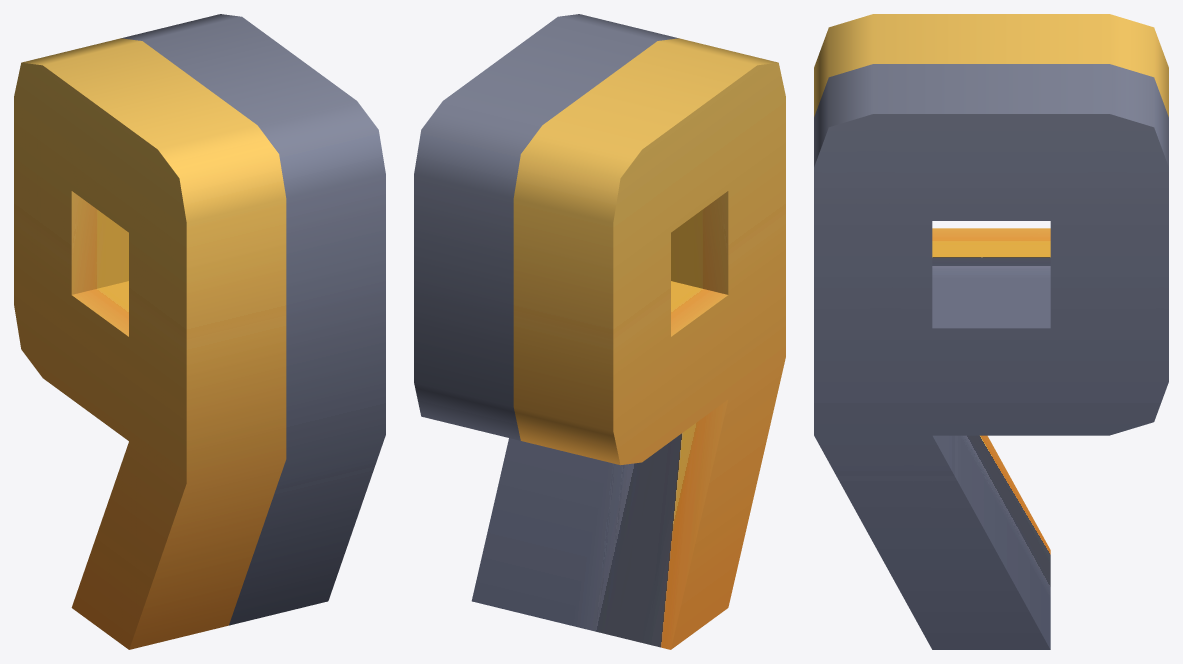
File: number-double-9.glb
3 views of the same model, side by side, from view 1: azimuth 30°, elevation 25°; view 2: azimuth 150°, elevation 25°; view 3: azimuth 270°, elevation 25° (orthographic). The views are drawn at different scales.
Visible parts, largest first — view 1: number-double-9; view 2: number-double-9; view 3: number-double-9.
Boxes of the visible parts, x1=… form: number-double-9: x1=14, y1=14, x2=385, y2=649; number-double-9: x1=414, y1=14, x2=785, y2=649; number-double-9: x1=814, y1=14, x2=1168, y2=649.
Bounding box in the file's own units: 0.2 × 0.5 × 0.3.
1 material, 1 textured.
